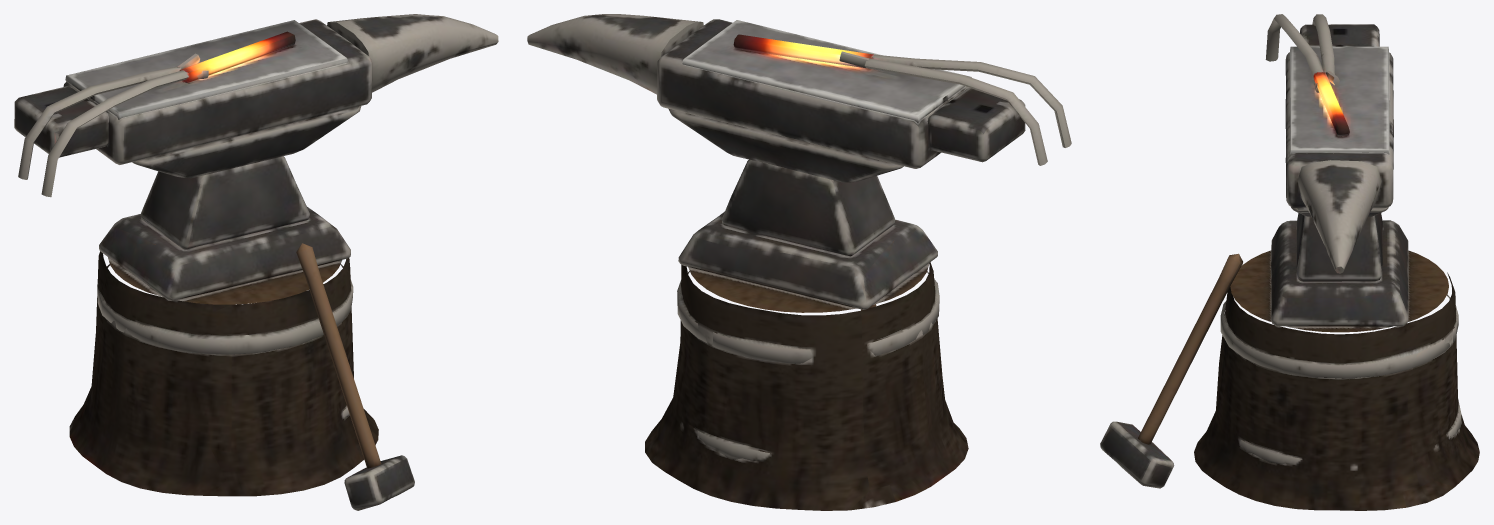
File: hellforge_anvil.glb
3 renders of one model, left to right at view 1: azimuth 30°, elevation 25°; view 2: azimuth 150°, elevation 25°; view 3: azimuth 270°, elevation 25°, orthographic. The views are drawn at different scales.
Visible parts, largest first — view 1: hellforge_anvil; view 2: hellforge_anvil; view 3: hellforge_anvil.
Part boxes in pixels (x1=…): hellforge_anvil: x1=14, y1=14, x2=498, y2=510; hellforge_anvil: x1=527, y1=14, x2=1071, y2=510; hellforge_anvil: x1=1100, y1=14, x2=1479, y2=510.
Bounding box in the file's own units: 1.61 × 1.24 × 1.16.
Materials: 1 (1 with a texture image).
